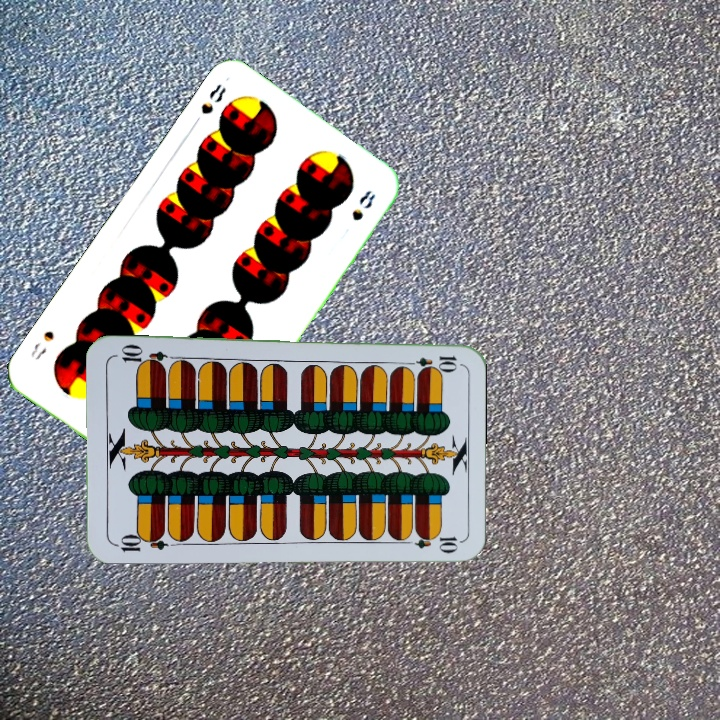E10: (110, 528, 169, 554), (401, 352, 460, 370)
S8: (188, 80, 229, 130)
